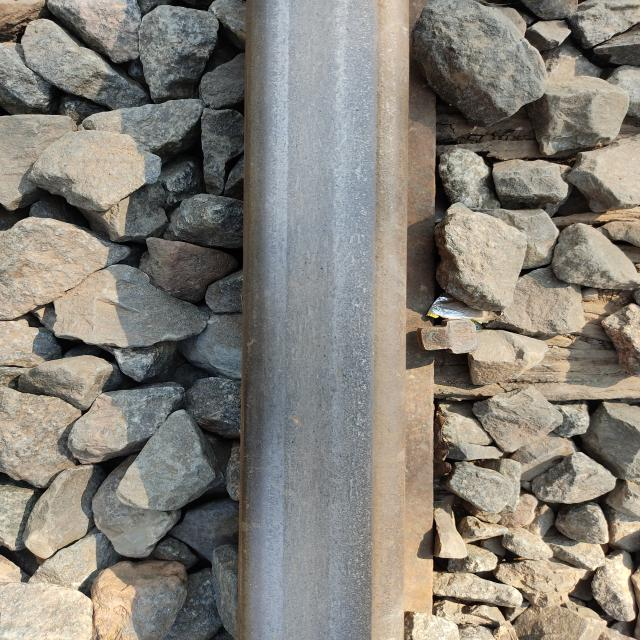non-defective: (166, 99, 546, 457)
